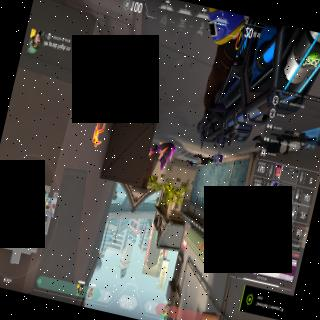ENEMY-BODY: (86, 112, 110, 152)
ENEMY-HEAD: (93, 140, 98, 148)
